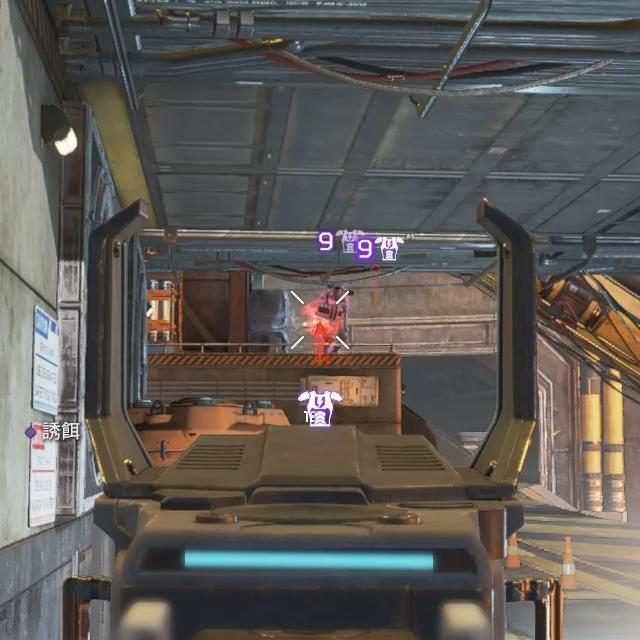avatar: (313, 283, 350, 355)
object: (303, 296, 343, 339)
